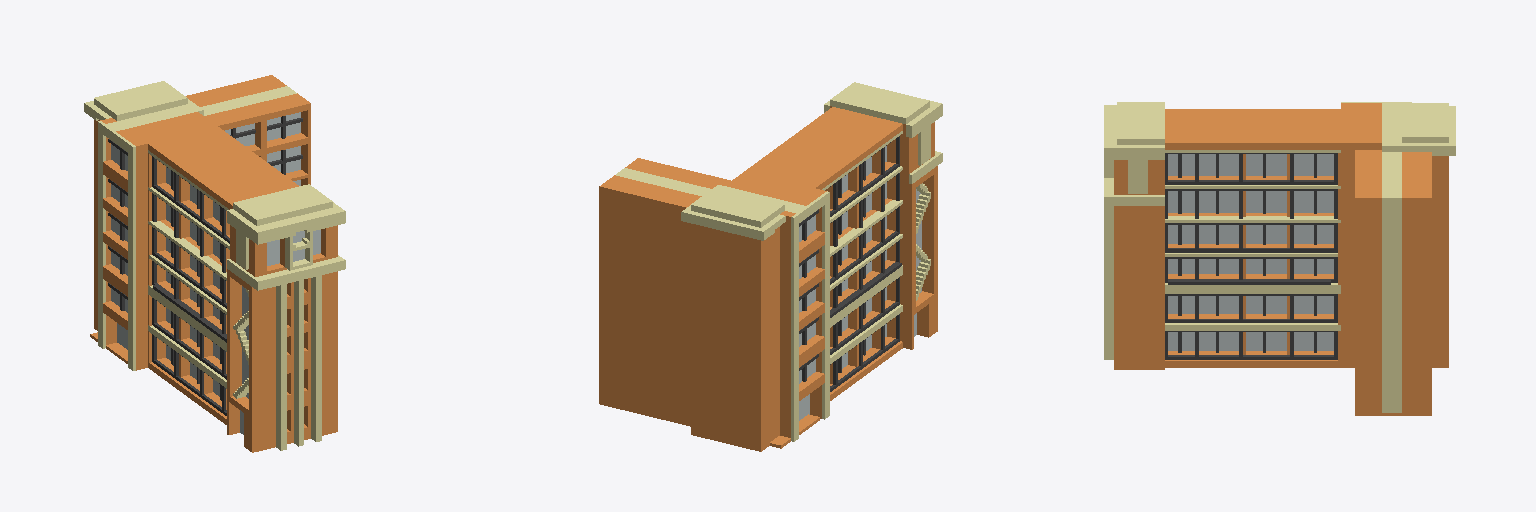
3 renders of one model, left to right at view 1: azimuth 30°, elevation 25°; view 2: azimuth 150°, elevation 25°; view 3: azimuth 270°, elevation 25°, orthographic.
Parts seen in each view (by area): view 1: 格物; view 2: 格物; view 3: 格物.
Part boxes in pixels (x1,y1,x2,y2): 格物: (84, 75, 345, 452); 格物: (599, 82, 942, 451); 格物: (1104, 102, 1455, 415).
Size of the model in its own units: 63 by 75 by 104.
1 materials, 1 textured.